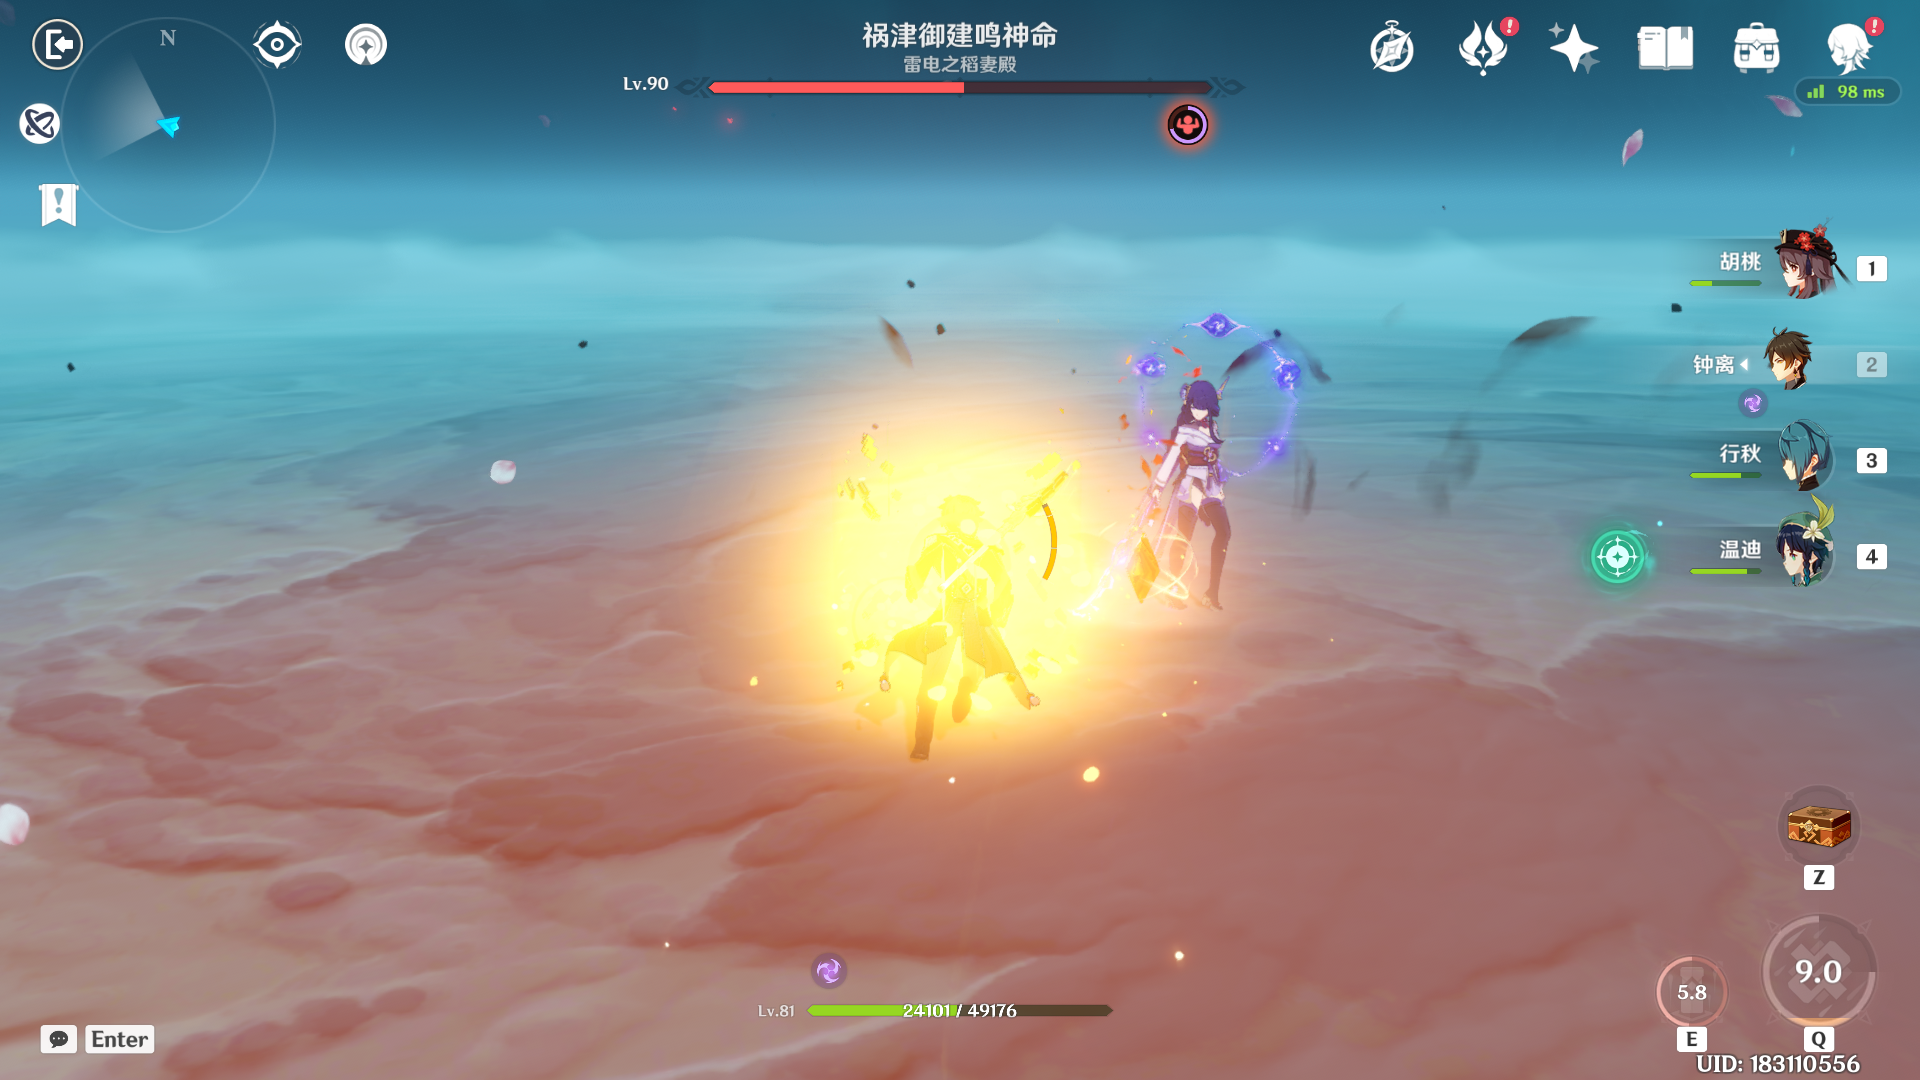character: (790, 436, 1091, 796), (1112, 360, 1298, 684)
